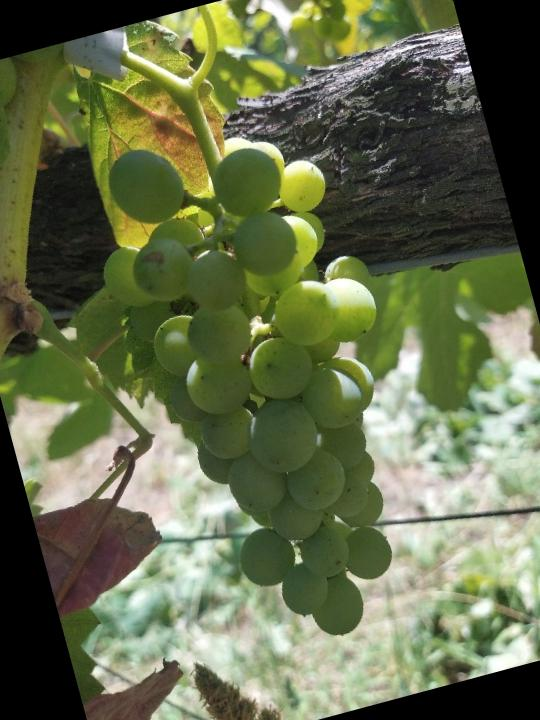grape: (73, 99, 464, 673)
